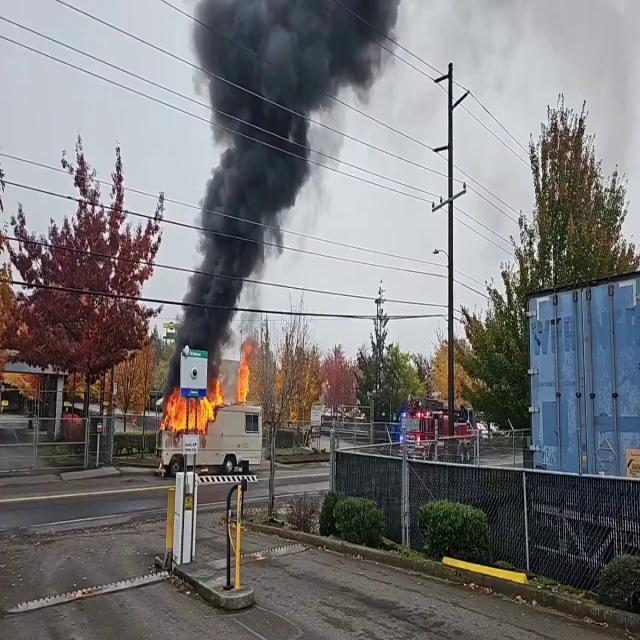Fire: (162, 380, 226, 433), (236, 347, 252, 407)
Smoke: (174, 1, 388, 363)
